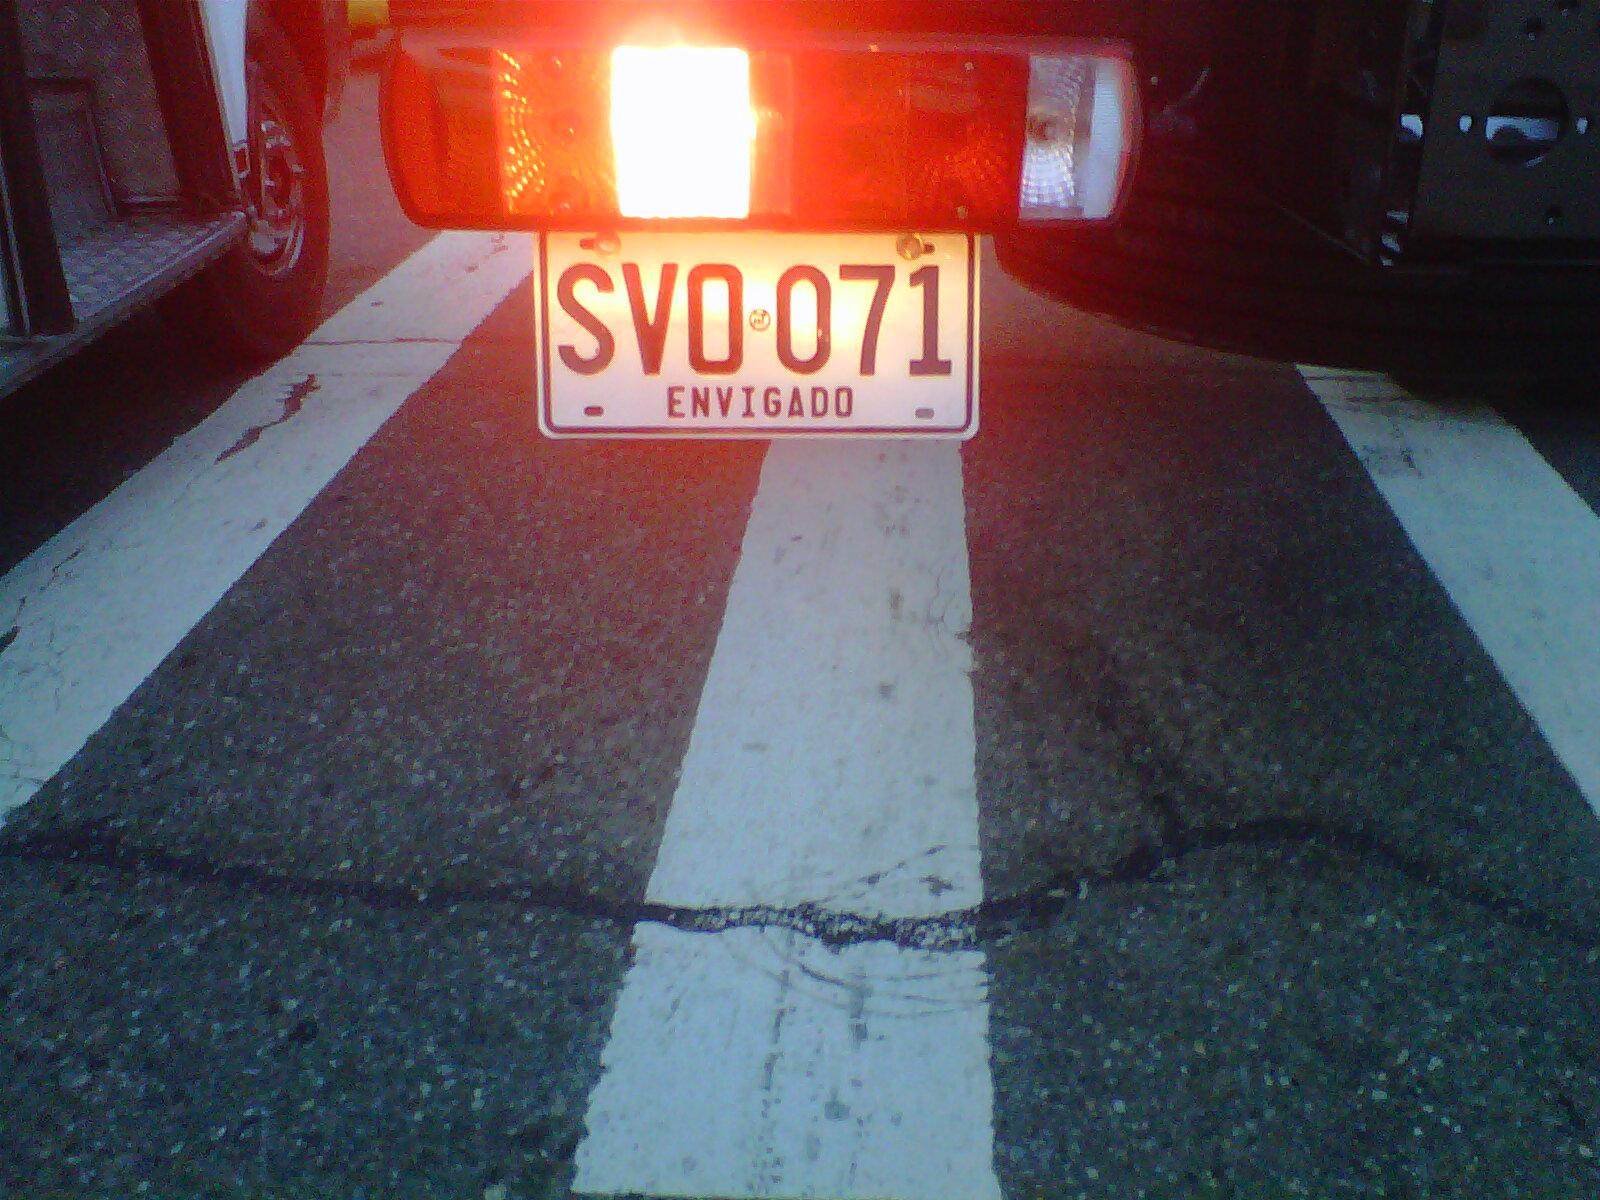placas: (524, 215, 987, 449)
